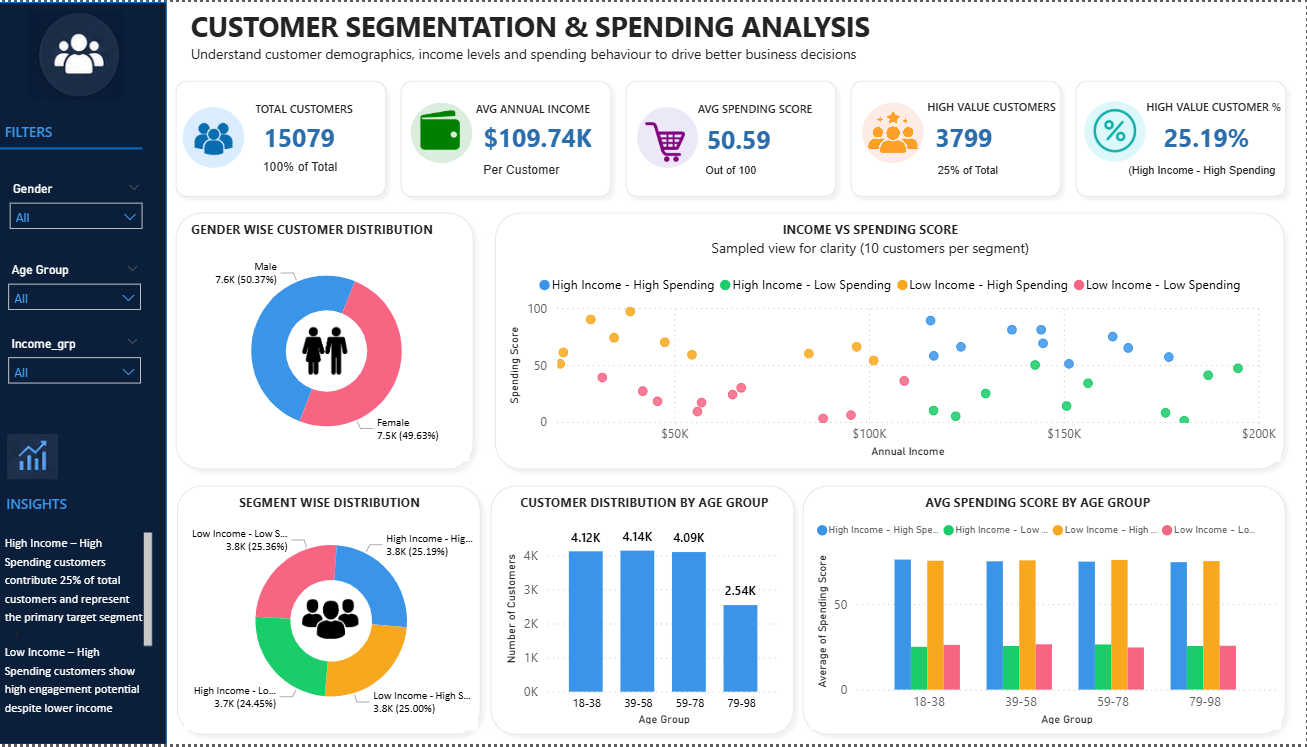

The dashboard page shown, as its layout file describes it:
{"tool":"powerbi","page":{"name":"Page 1","canvas":[1280,720],"ordinal":0},"visuals":[{"type":"shape","box":[9.1,0,166.6,720.8],"z":0},{"type":"textbox","box":[193.8,0,698,81],"z":1000},{"type":"shape","box":[175.6,68.8,220,128.7],"z":2000},{"type":"shape","box":[394.1,68.8,220,128.7],"z":3000},{"type":"shape","box":[612.5,68.8,220,128.7],"z":4000},{"type":"shape","box":[830.9,68.8,220,128.7],"z":5000},{"type":"shape","box":[191.2,101.9,60,59.2],"z":6000},{"type":"shape","box":[412,97.6,60,59],"z":7000},{"type":"shape","box":[631,101.6,59.3,59.3],"z":8000},{"type":"shape","box":[850,98.1,60,59],"z":9000},{"type":"shape","box":[1049.3,68.8,220,128.7],"z":10000},{"type":"shape","box":[1066,95.6,60,59],"z":11000},{"type":"image","box":[200,113.2,43,38.4],"z":12000},{"type":"shape","box":[176.7,196.7,305,265],"z":13000},{"type":"shape","box":[486.7,196.7,781.7,265],"z":14000},{"type":"shape","box":[177.2,461.8,310.4,257.4],"z":15000},{"type":"shape","box":[481.5,461.8,310.4,257.4],"z":16000},{"type":"shape","box":[784.4,461.8,484.5,257.4],"z":17000},{"type":"card","fields":{"Values":["Cleaned_data.Total Customers"]},"box":[264,114.3,80.2,34.9],"z":18000},{"type":"textbox","box":[255.8,87.6,126.7,33.7],"z":19000},{"type":"textbox","box":[264,143.4,95.3,27.9],"z":20000},{"type":"card","fields":{"Values":["Avg(Cleaned_data.Annual Income)"]},"box":[476.7,115.5,115.1,34.9],"z":21000},{"type":"textbox","box":[469.8,87.6,145.3,32.6],"z":22000},{"type":"textbox","box":[476.7,146.9,95.3,27.9],"z":23000},{"type":"card","fields":{"Values":["Avg(Cleaned_data.Spending Score)"]},"box":[693,116.7,74.4,34.9],"z":24000},{"type":"textbox","box":[686,87.6,145.3,32.6],"z":25000},{"type":"textbox","box":[693,146.9,95.3,27.9],"z":26000},{"type":"card","fields":{"Values":["Cleaned_data.High Value Customers"]},"box":[910.5,114.3,74.4,34.9],"z":27000},{"type":"textbox","box":[908,86.4,137.2,29.1],"z":28000},{"type":"textbox","box":[918.6,146.9,95.3,27.9],"z":29000},{"type":"card","fields":{"Values":["Cleaned_data.High Value Customer %"]},"box":[1127.9,114.3,111.6,34.9],"z":30000},{"type":"textbox","box":[1121,86.4,145.3,29.1],"z":31000},{"type":"textbox","box":[1103,146.9,161.6,27.9],"z":32000},{"type":"image","box":[419.8,105,43,38.4],"z":33000},{"type":"image","box":[637.2,116.7,43,38.4],"z":34000},{"type":"image","box":[855.8,104.7,47.7,41.9],"z":35000},{"type":"image","box":[1069.8,101.2,51.2,45.3],"z":36000},{"type":"donutChart","fields":{"Category":["Cleaned_data.Gender"],"Y":["CountNonNull(Cleaned_data.Customer ID)"]},"box":[191.2,231.2,278.8,213.8],"z":37000},{"type":"textbox","box":[179.5,205.7,275,33],"z":38000},{"type":"image","box":[306.2,308.8,46.2,60],"z":39000},{"type":"columnChart","fields":{"Category":["Cleaned_data.age_group"],"Y":["CountNonNull(Cleaned_data.Customer ID)"]},"box":[498.9,493.2,276.1,212.5],"z":40000},{"type":"textbox","box":[488.6,470,300,33],"z":41000},{"type":"scatterChart","fields":{"Y":["Cleaned_data.Spending Score"],"X":["Cleaned_data.Annual Income"],"Series":["Cleaned_data.Segment"]},"box":[502.9,254.3,754.3,191.4],"z":42000},{"type":"textbox","box":[475.7,205.7,764.3,48.6],"z":43000},{"type":"donutChart","fields":{"Category":["Cleaned_data.Segment"],"Y":["CountNonNull(Cleaned_data.Customer ID)"]},"box":[191.7,493.3,285,213.3],"z":44000},{"type":"clusteredColumnChart","fields":{"Category":["Cleaned_data.age_group"],"Y":["Avg(Cleaned_data.Spending Score)"],"Series":["Cleaned_data.Segment"]},"box":[800,493.8,456.2,212.5],"z":45000},{"type":"textbox","box":[802.5,470,437.5,32.5],"z":46000},{"type":"image","box":[302.5,580,62.5,38.8],"z":47000},{"type":"textbox","box":[183.8,470,300,32.5],"z":48000},{"type":"image","box":[23.8,8.8,128.8,86.2],"z":49000},{"type":"slicer","fields":{"Values":["Cleaned_data.Gender"]},"box":[12.9,168.6,148.6,62.9],"z":50000},{"type":"textbox","box":[12.5,110,163.8,32.5],"z":51000},{"type":"slicer","fields":{"Values":["Cleaned_data.age_group"]},"box":[12,247.1,148.6,61.4],"z":52000},{"type":"shape","box":[13.8,133.8,138.8,16.2],"z":53000},{"type":"slicer","fields":{"Values":["Cleaned_data.Income_grp"]},"box":[12,318.6,148.6,62.9],"z":54000},{"type":"textbox","box":[14.3,471.4,164.3,32.9],"z":55000},{"type":"textbox","box":[12.9,510,152.9,208.6],"z":56000},{"type":"image","box":[14.3,418.6,61.4,44.3],"z":57000}]}

Visuals, with their boxes in screenshot pixels (x1, y1, x2, y2), scaled from the page's 1280x720 canvas onto the 1307x747 screenshot:
shape: 9 0 179 746
textbox: 198 0 911 84
shape: 179 71 404 205
shape: 402 71 627 205
shape: 625 71 850 205
shape: 848 71 1073 205
shape: 195 106 256 167
shape: 421 101 482 162
shape: 644 105 705 167
shape: 868 102 929 163
shape: 1071 71 1296 205
shape: 1088 99 1150 160
image: 204 117 248 157
shape: 180 204 492 479
shape: 497 204 1295 479
shape: 181 479 498 746
shape: 492 479 809 746
shape: 801 479 1296 746
card - Cleaned_data.Total Customers: 270 119 351 155
textbox: 261 91 391 126
textbox: 270 149 367 178
card - Avg(Cleaned_data.Annual Income): 487 120 604 156
textbox: 480 91 628 125
textbox: 487 152 584 181
card - Avg(Cleaned_data.Spending Score): 708 121 784 157
textbox: 700 91 849 125
textbox: 708 152 805 181
card - Cleaned_data.High Value Customers: 930 119 1006 155
textbox: 927 90 1067 120
textbox: 938 152 1035 181
card - Cleaned_data.High Value Customer %: 1152 119 1266 155
textbox: 1145 90 1293 120
textbox: 1126 152 1291 181
image: 429 109 473 149
image: 651 121 695 161
image: 874 109 923 152
image: 1092 105 1145 152
donutChart - Cleaned_data.Gender x CountNonNull(Cleaned_data.Customer ID): 195 240 480 462
textbox: 183 213 464 248
image: 313 320 360 383
columnChart - Cleaned_data.age_group x CountNonNull(Cleaned_data.Customer ID): 509 512 791 732
textbox: 499 488 805 522
scatterChart - Cleaned_data.Spending Score x Cleaned_data.Annual Income: 514 264 1284 462
textbox: 486 213 1266 264
donutChart - Cleaned_data.Segment x CountNonNull(Cleaned_data.Customer ID): 196 512 487 733
clusteredColumnChart - Cleaned_data.age_group x Avg(Cleaned_data.Spending Score): 817 512 1283 733
textbox: 819 488 1266 521
image: 309 602 373 642
textbox: 188 488 494 521
image: 24 9 156 99
slicer - Cleaned_data.Gender: 13 175 165 240
textbox: 13 114 180 148
slicer - Cleaned_data.age_group: 12 256 164 320
shape: 14 139 156 156
slicer - Cleaned_data.Income_grp: 12 331 164 396
textbox: 15 489 182 523
textbox: 13 529 169 746
image: 15 434 77 480
